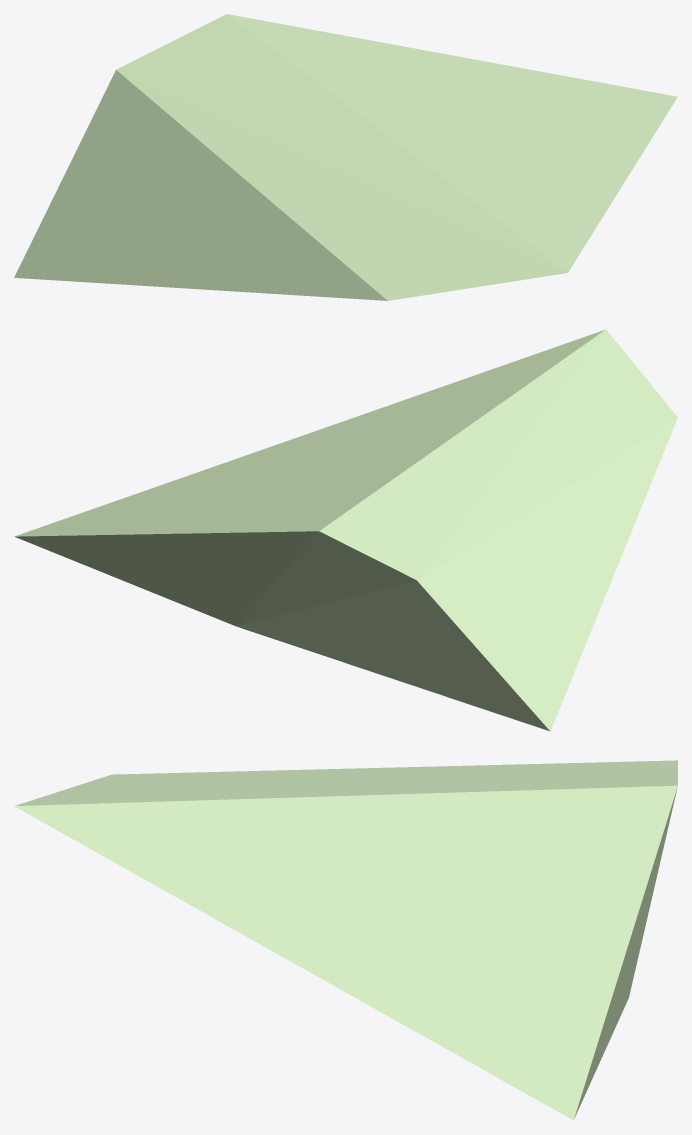
File: kuka_URDF_robot_base_coll_13.dae
3 views of the same model, one above another, from view 1: azimuth 30°, elevation 25°; view 2: azimuth 150°, elevation 25°; view 3: azimuth 270°, elevation 25° (orthographic). The views are drawn at different scales.
Parts seen in each view (by area): view 1: Node_0000020FCC590AE0; view 2: Node_0000020FCC590AE0; view 3: Node_0000020FCC590AE0.
Boxes of the visible parts, <box> form: Node_0000020FCC590AE0: <box>14,14,677,300</box>; Node_0000020FCC590AE0: <box>14,329,677,731</box>; Node_0000020FCC590AE0: <box>14,760,677,1120</box>.
Bounding box in the file's own units: 0.0283 × 0.00796 × 0.0256.
